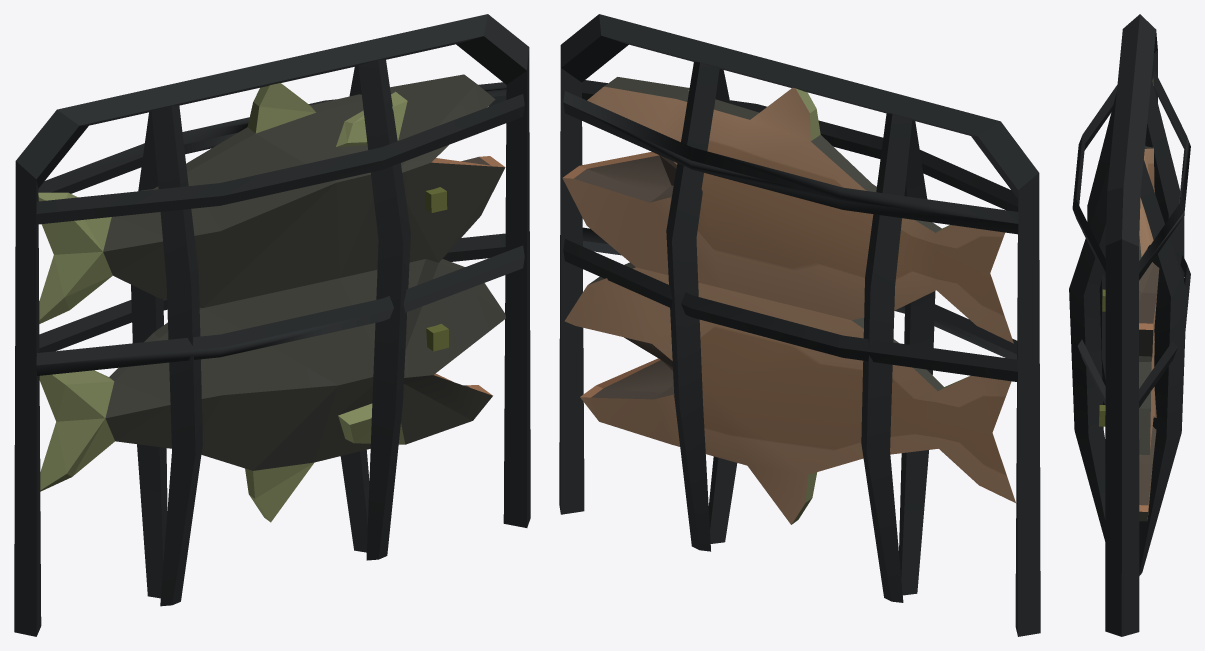
File: SM_Prop_FirePit_Fish_01.glb
3 renders of one model, left to right at view 1: azimuth 30°, elevation 25°; view 2: azimuth 150°, elevation 25°; view 3: azimuth 270°, elevation 25°, orthographic. The views are drawn at different scales.
Visible parts, largest first — view 1: SM_Prop_FirePit_Fish_01; view 2: SM_Prop_FirePit_Fish_01; view 3: SM_Prop_FirePit_Fish_01.
Part boxes in pixels (x1,y1,x2,y2): SM_Prop_FirePit_Fish_01: [14, 14, 530, 636]; SM_Prop_FirePit_Fish_01: [559, 14, 1040, 636]; SM_Prop_FirePit_Fish_01: [1069, 14, 1190, 636].
Size of the model in its own units: 0.5669 by 0.5508 by 0.1407.
1 material, 1 textured.
